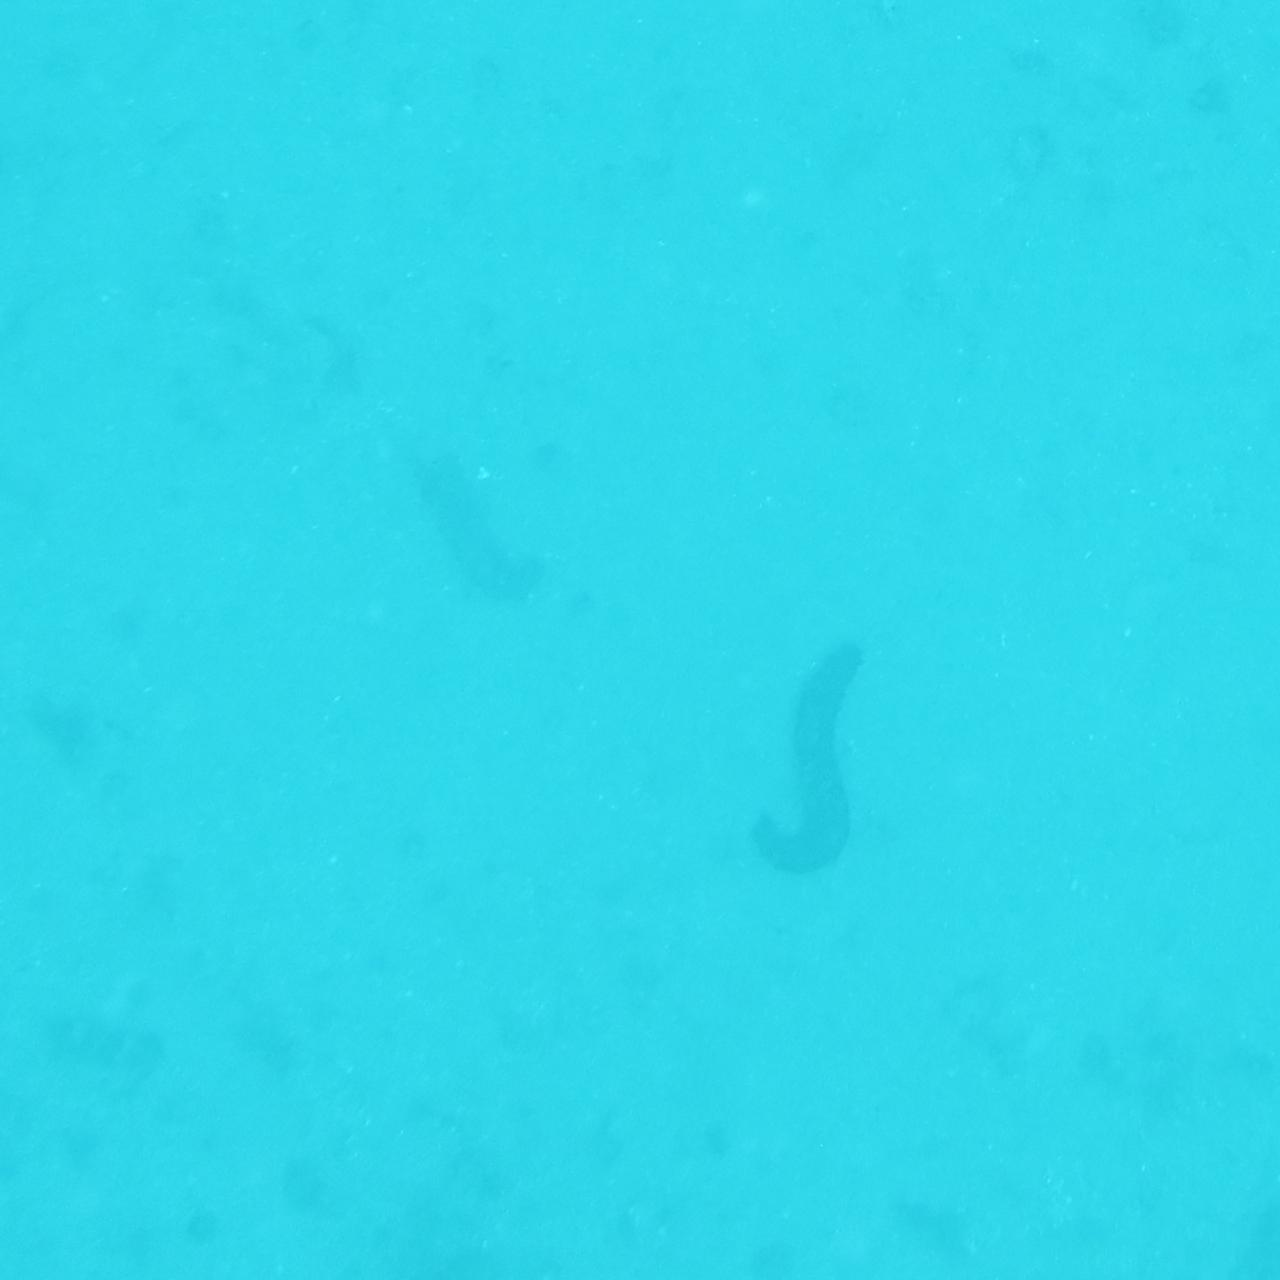Holothuria tubulosa: (744, 613, 890, 905), (368, 429, 558, 613)
